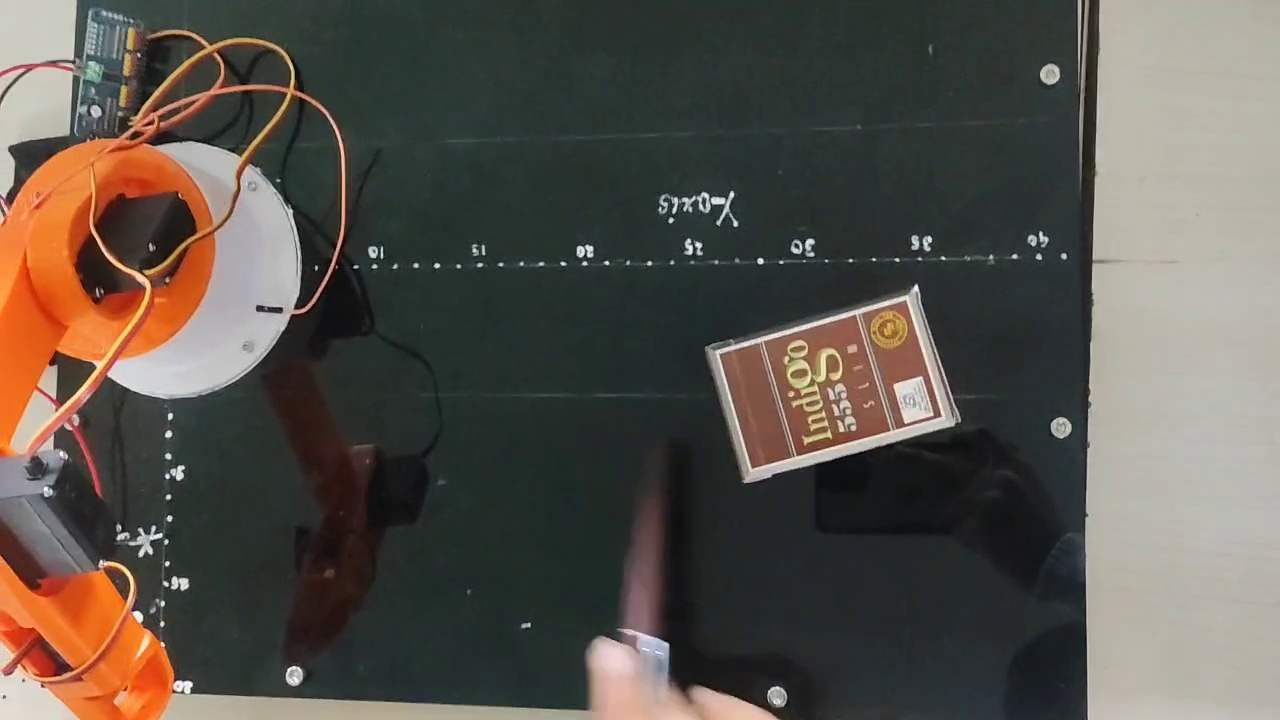BEX: (714, 296, 948, 473)
